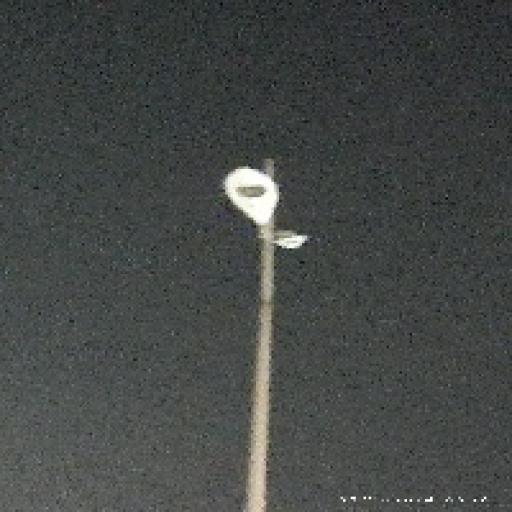Not Working: (210, 152, 288, 228), (266, 227, 310, 257)
